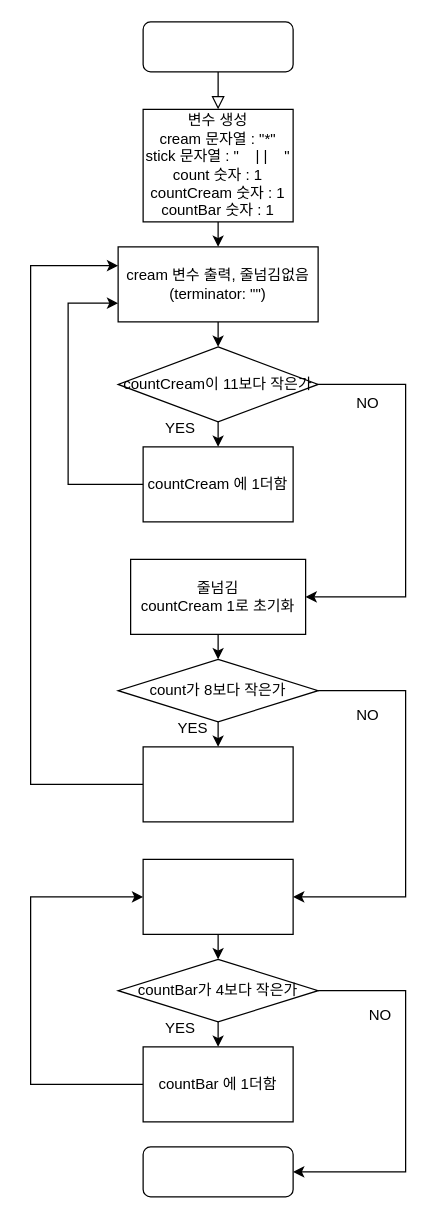
This 440x1219 diagram has some shape labels left out. Each missing label, with the centre of its shape:
"count 에 1 더함" belongs at (217,784).
"stick 변수 출력" belongs at (217,896).
"아이스크림 만들기 시작!" belongs at (217,46).
"아이스크림 만들기 완성!" belongs at (217,1171).
